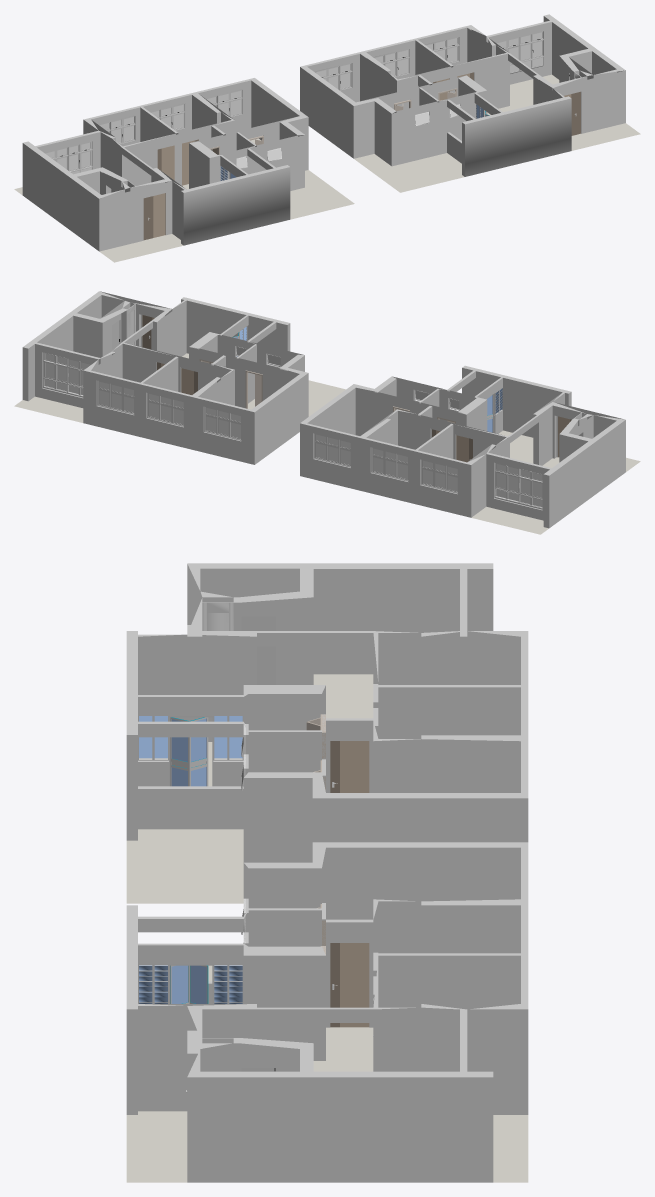
Rendered from bishan-ridges-4-room.glb.
3 renders of one model, top to bottom at view 1: azimuth 30°, elevation 25°; view 2: azimuth 150°, elevation 25°; view 3: azimuth 270°, elevation 25°, orthographic. The views are drawn at different scales.
Visible parts, largest first — view 1: mesh_240_ROOT__Component_57006__Component_44362_Layer0, mesh_516_ROOT__Component_70485__Component_44362_Layer0, mesh_241_ROOT__Component_57006__Component_44362__Screenshot_, mesh_517_ROOT__Component_70485__Component_44362__Screenshot_, mesh_503_ROOT__Component_70485__Component_56268__Component_5, mesh_289_ROOT__Component_70485__Component_56264__Component_5; view 2: mesh_516_ROOT__Component_70485__Component_44362_Layer0, mesh_240_ROOT__Component_57006__Component_44362_Layer0, mesh_517_ROOT__Component_70485__Component_44362__Screenshot_, mesh_241_ROOT__Component_57006__Component_44362__Screenshot_, mesh_351_ROOT__Component_70485__Component_56511__Component_5, mesh_75_ROOT__Component_57006__Component_56511__Component_54; view 3: mesh_240_ROOT__Component_57006__Component_44362_Layer0, mesh_516_ROOT__Component_70485__Component_44362_Layer0, mesh_517_ROOT__Component_70485__Component_44362__Screenshot_, mesh_241_ROOT__Component_57006__Component_44362__Screenshot_, mesh_23_ROOT__Component_57006__Component_56264__Component_56, mesh_299_ROOT__Component_70485__Component_56264__Component_5, mesh_464_ROOT__Component_70485__Component_56275__Component_5, mesh_188_ROOT__Component_57006__Component_56275__Component_5, mesh_477_ROOT__Component_70485__Component_56266__Component_5.
Boxes of the visible parts, x1,y1,x2,y2 form: mesh_240_ROOT__Component_57006__Component_44362_Layer0: [300, 14, 625, 176]; mesh_516_ROOT__Component_70485__Component_44362_Layer0: [22, 78, 308, 251]; mesh_241_ROOT__Component_57006__Component_44362__Screenshot_: [354, 74, 640, 192]; mesh_517_ROOT__Component_70485__Component_44362__Screenshot_: [14, 138, 354, 262]; mesh_503_ROOT__Component_70485__Component_56268__Component_5: [153, 193, 165, 237]; mesh_289_ROOT__Component_70485__Component_56264__Component_5: [161, 145, 174, 180]; mesh_516_ROOT__Component_70485__Component_44362_Layer0: [300, 365, 625, 528]; mesh_240_ROOT__Component_57006__Component_44362_Layer0: [22, 291, 308, 464]; mesh_517_ROOT__Component_70485__Component_44362__Screenshot_: [471, 430, 640, 534]; mesh_241_ROOT__Component_57006__Component_44362__Screenshot_: [14, 353, 345, 422]; mesh_351_ROOT__Component_70485__Component_56511__Component_5: [495, 463, 542, 507]; mesh_75_ROOT__Component_57006__Component_56511__Component_54: [44, 354, 83, 395]; mesh_240_ROOT__Component_57006__Component_44362_Layer0: [126, 842, 528, 1182]; mesh_516_ROOT__Component_70485__Component_44362_Layer0: [126, 563, 528, 862]; mesh_517_ROOT__Component_70485__Component_44362__Screenshot_: [126, 674, 373, 903]; mesh_241_ROOT__Component_57006__Component_44362__Screenshot_: [126, 965, 528, 1182]; mesh_23_ROOT__Component_57006__Component_56264__Component_56: [340, 943, 369, 1027]; mesh_299_ROOT__Component_70485__Component_56264__Component_5: [340, 741, 369, 792]; mesh_464_ROOT__Component_70485__Component_56275__Component_5: [171, 718, 206, 786]; mesh_188_ROOT__Component_57006__Component_56275__Component_5: [171, 965, 206, 1003]; mesh_477_ROOT__Component_70485__Component_56266__Component_5: [242, 617, 274, 684].
Size of the model in its own units: 27186 by 2600 by 8971.
